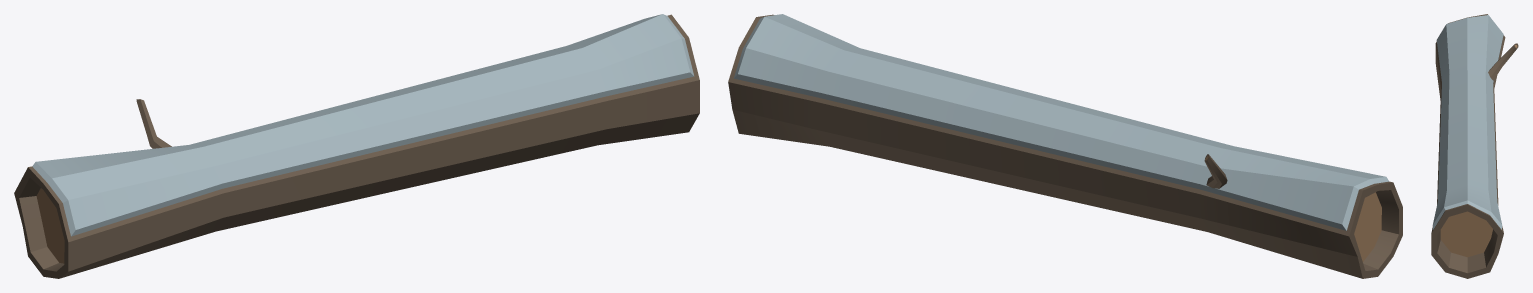
File: Geo_FallenLog.fbx
3 renders of one model, left to right at view 1: azimuth 30°, elevation 25°; view 2: azimuth 150°, elevation 25°; view 3: azimuth 270°, elevation 25°, orthographic. The views are drawn at different scales.
Parts seen in each view (by area): view 1: FallenLog_Mesh; view 2: FallenLog_Mesh; view 3: FallenLog_Mesh.
Boxes of the visible parts, x1,y1,x2,y2 form: FallenLog_Mesh: (14,14,699,278); FallenLog_Mesh: (728,14,1402,278); FallenLog_Mesh: (1431,14,1518,278).
Bounding box in the file's own units: 434 × 81.95 × 81.08.
